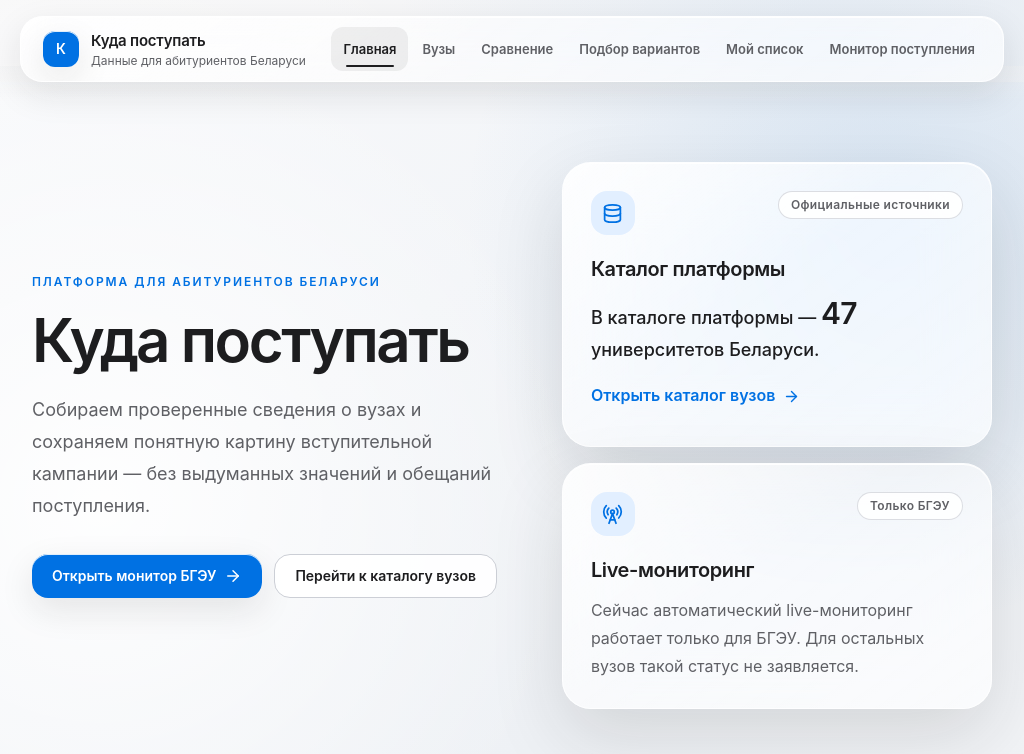
Scenario: frontend shell routing › changes routes through navigation and exposes the active route
expect the text "47" is shown: met, box [821, 295, 857, 331]
Click the link "Монитор поступления" at (902, 49), box [830, 41, 975, 57]
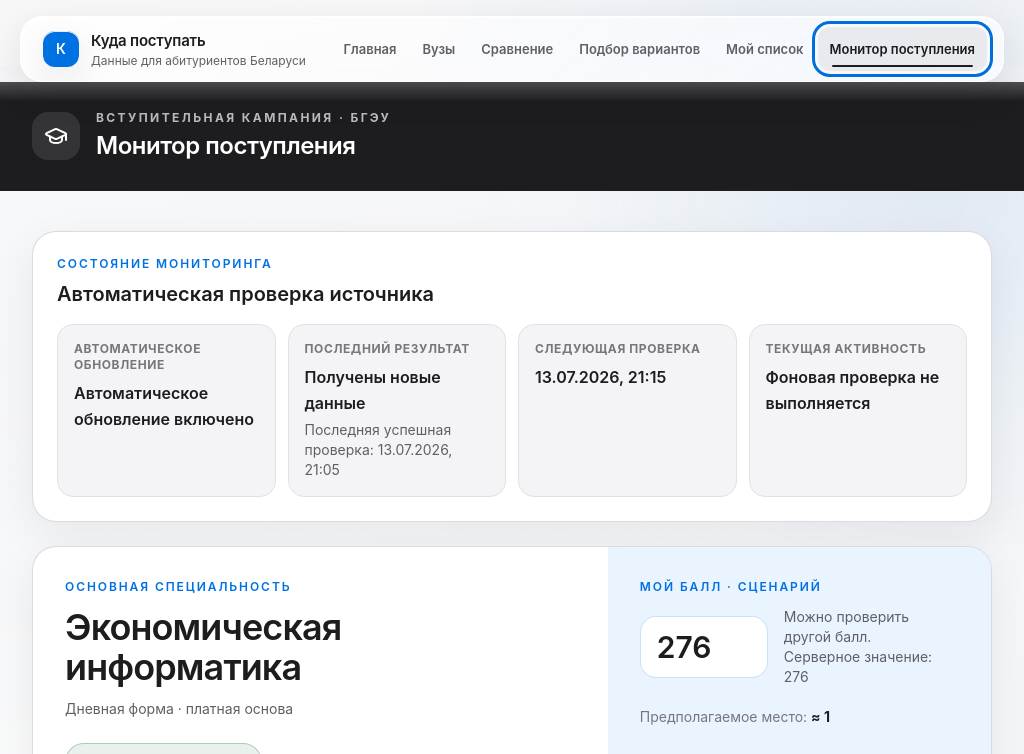
expect the heading "Экономическая информатика" is shown: met, box [65, 605, 341, 689]
